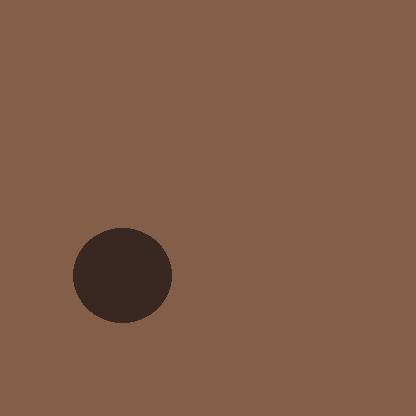pothole: (73, 228, 171, 322)
